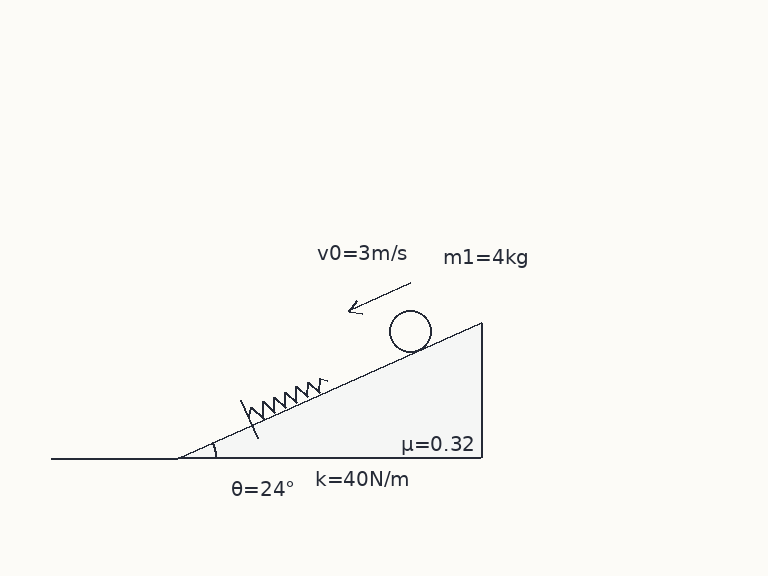ball: (387, 308, 433, 354)
ramp: (174, 321, 482, 460)
spring: (246, 375, 329, 419)
